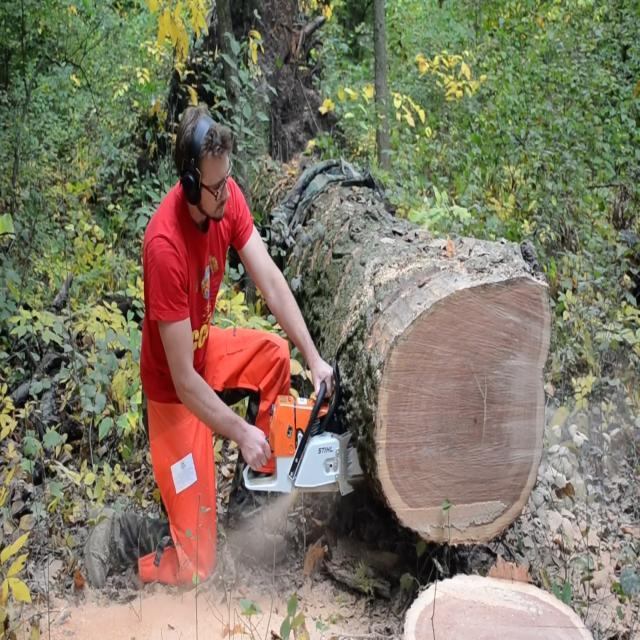Chainsaw: (240, 350, 383, 498)
